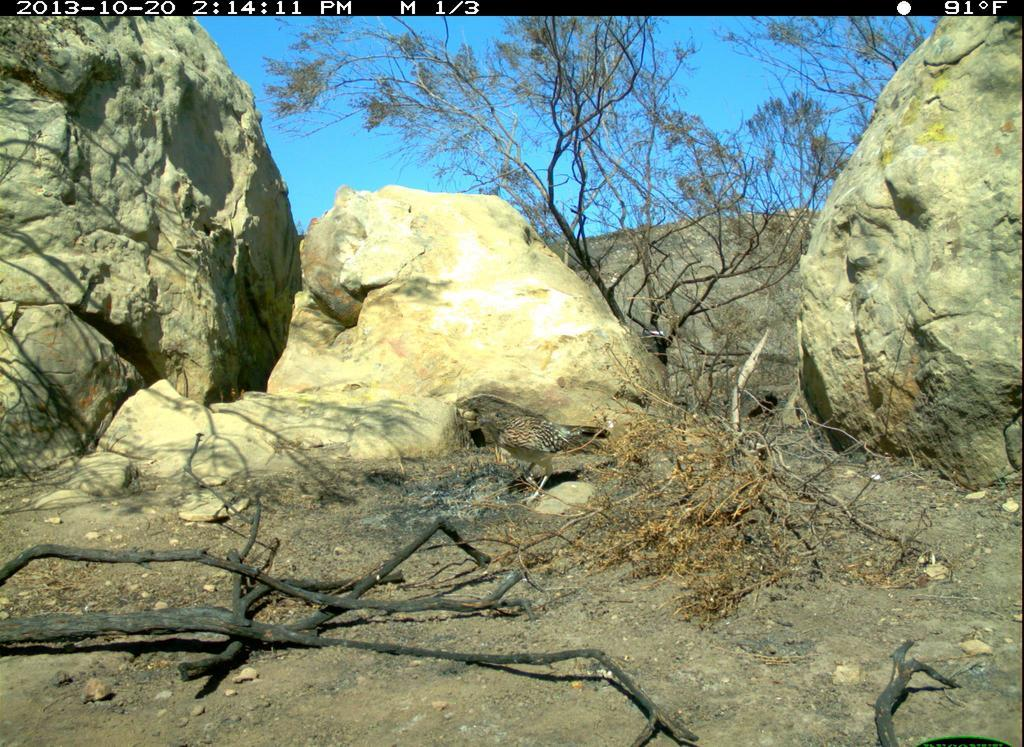bird: (454, 391, 620, 492)
